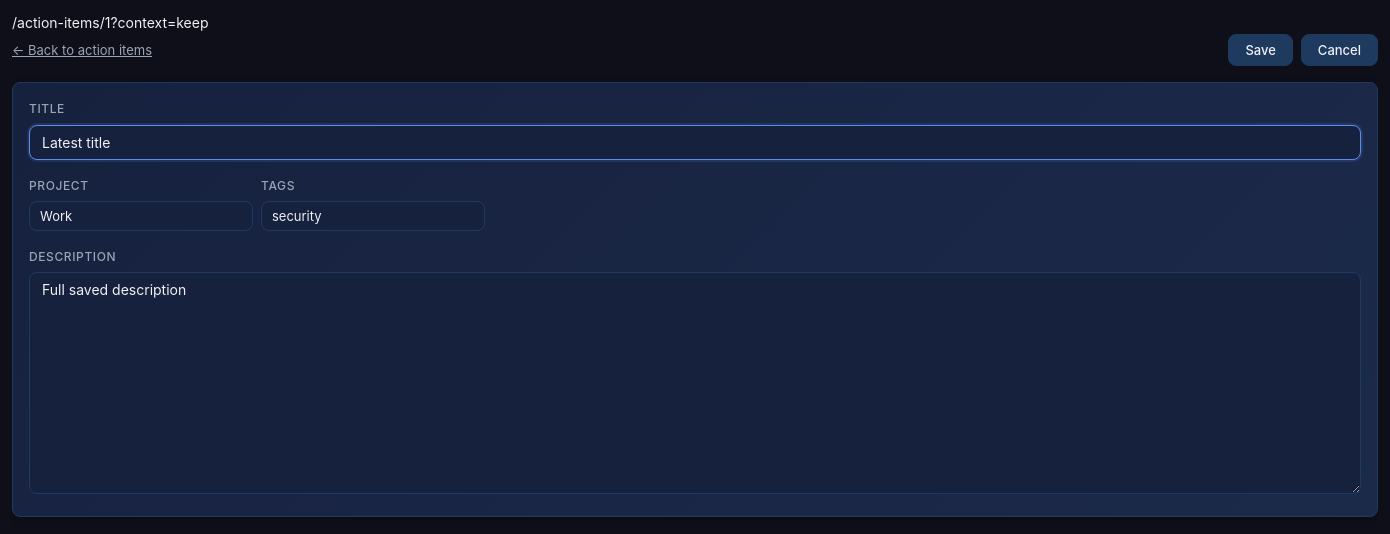
Scenario: ActionItemDetailPage › opens the existing editor once from its current full record and consumes only the edit intent
Expected: the text box labelled "Description" holds "Full saved description", [29,272,1361,494]
Expected: the text named "Current route" reads "/action-items/1?context=keep", [12,14,208,31]
Replace the text in the field labelled "Title" with "Edited title": (695, 142) [29,125,1361,160]
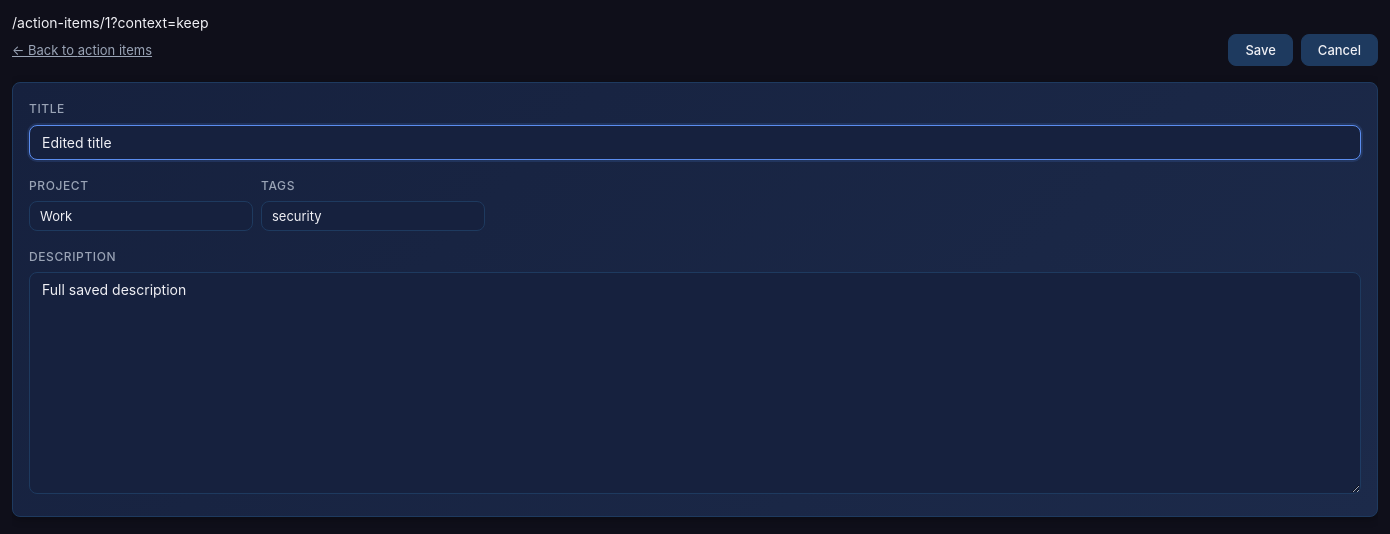
Click the button "Save": (1261, 50) [1228,34,1293,66]
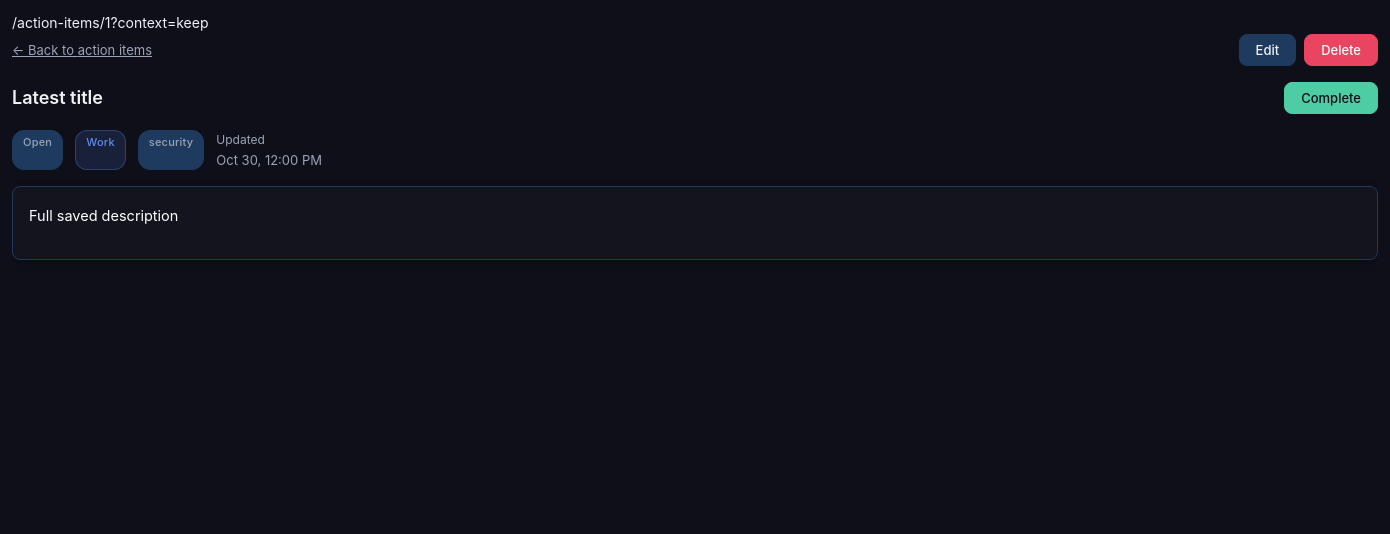
Now the button "Edit" is shown, box [1238,34,1296,66]
